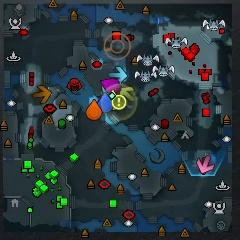Other: (104, 33, 131, 61), (113, 95, 127, 110)
p1: (98, 93, 113, 112)
p2: (101, 85, 107, 93)
p3: (100, 78, 121, 92)
p5: (87, 99, 102, 121)
x1: (197, 156, 215, 173)
x2: (119, 87, 135, 102)
x3: (109, 66, 127, 81)
x5: (33, 85, 51, 103)
